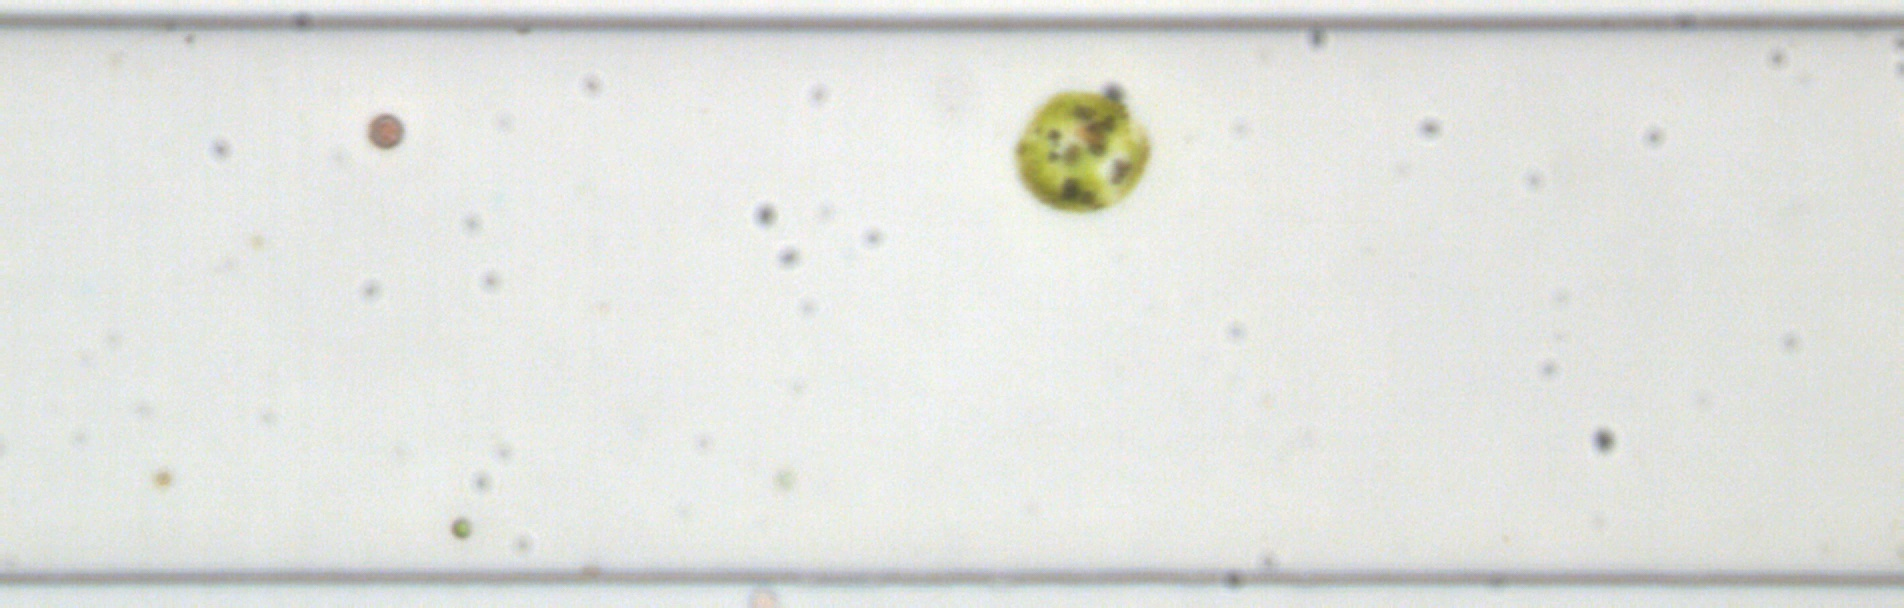Chlorella: (449, 516, 474, 540), (772, 468, 797, 489), (154, 468, 172, 485)
Haematococcus: (1009, 84, 1154, 220)
Porphyridium: (364, 108, 406, 150)
